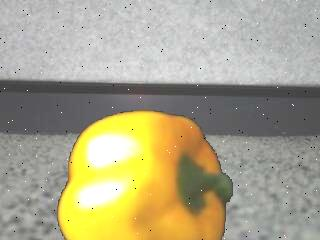Capsicum: (59, 109, 235, 240)
